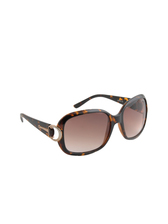glasses: (22, 86, 151, 156)
